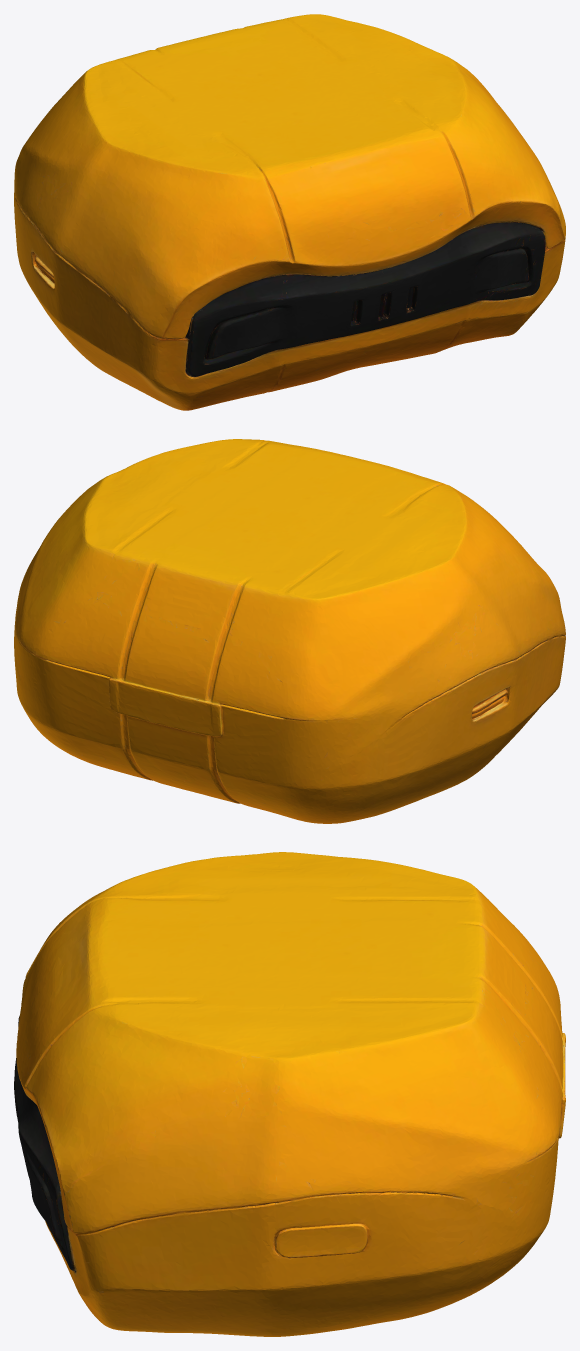
The model's file is modeladoauri.glb.
The picture shows the model from 3 angles, top to bottom: view 1: azimuth 30°, elevation 25°; view 2: azimuth 150°, elevation 25°; view 3: azimuth 270°, elevation 25°; orthographic projection. The views are drawn at different scales.
Visible parts, largest first — view 1: world; view 2: world; view 3: world.
Boxes of the visible parts, x1=… form: world: x1=14, y1=14, x2=565, y2=410; world: x1=14, y1=439, x2=565, y2=823; world: x1=14, y1=852, x2=565, y2=1336.
Size of the model in its own units: 0.5652 by 0.27 by 0.4748.
1 material, 1 textured.
